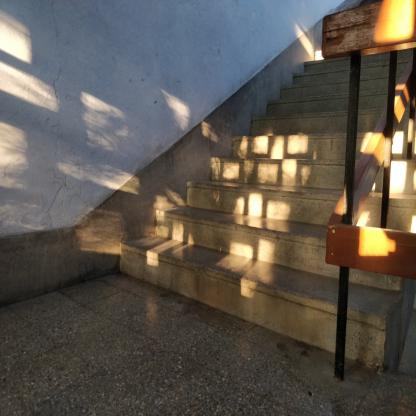stairs: (213, 168, 321, 366)
